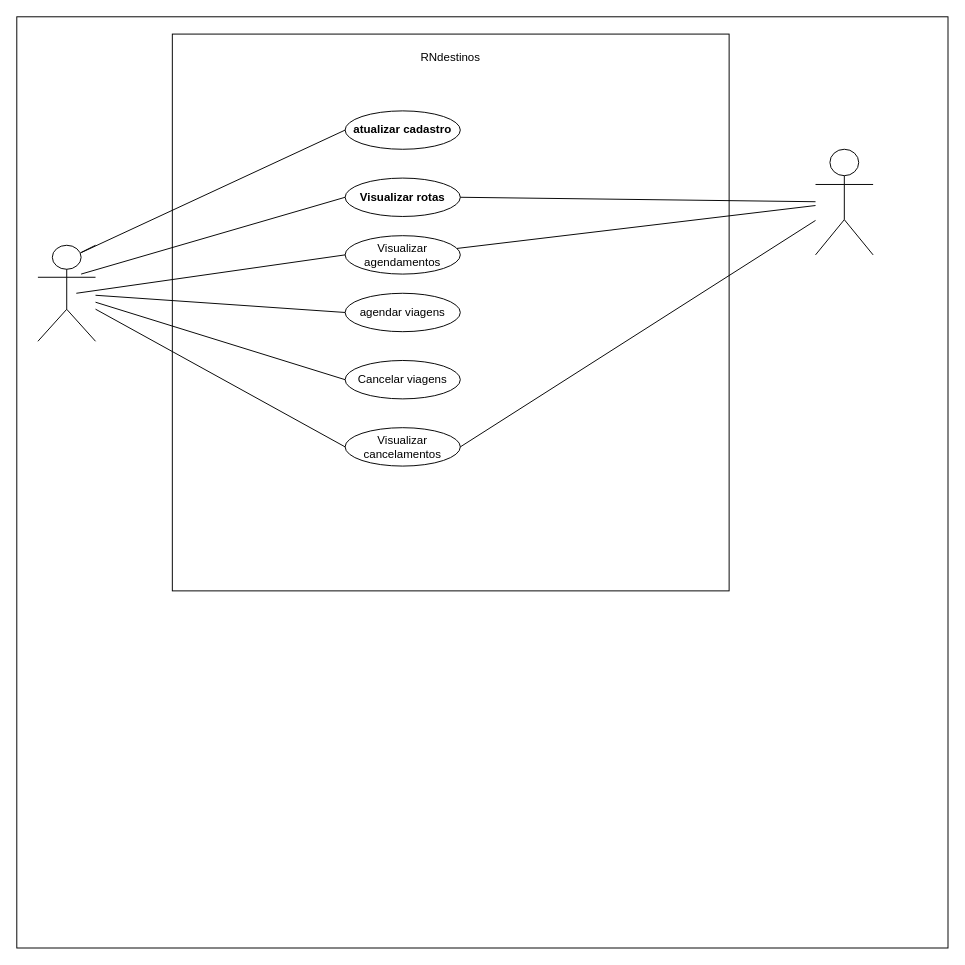
Image size: 965x965. Some labels were removed from this diagram. Each missing label, with the box of its shape:
Guia Turistico: (815, 148, 873, 255)
Turista: (37, 244, 96, 341)
